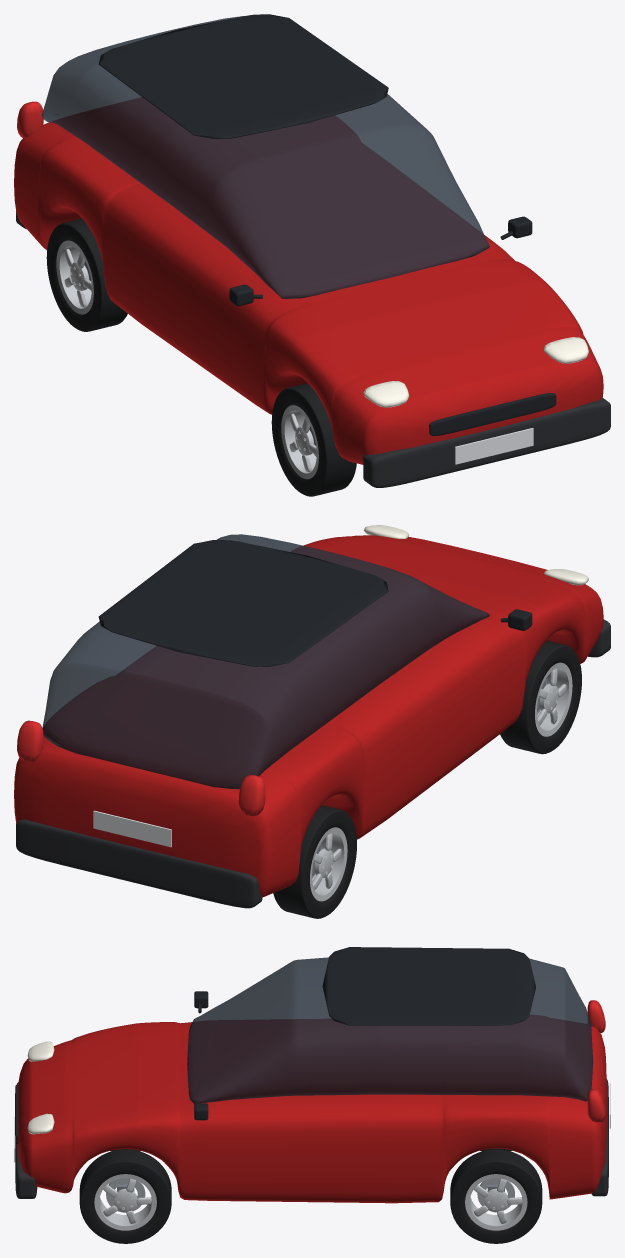
The model's file is chevy_bolt_ev.glb.
3 views of the same model, one above another, from view 1: azimuth 30°, elevation 25°; view 2: azimuth 150°, elevation 25°; view 3: azimuth 270°, elevation 25° (orthographic). The views are drawn at different scales.
Parts seen in each view (by area): view 1: chevy_bolt_ev, front_right_wheel/tire, rear_right_wheel/tire, rear_right_wheel/rim, front_right_wheel/rim; view 2: chevy_bolt_ev, rear_right_wheel/tire, front_right_wheel/tire, rear_right_wheel/rim, front_right_wheel/rim; view 3: chevy_bolt_ev, front_left_wheel/tire, rear_left_wheel/tire, front_left_wheel/rim, rear_left_wheel/rim, front_left_knuckle, rear_left_wheel/center, front_left_wheel/center.
Boxes of the visible parts, left/top/right/bottom form: chevy_bolt_ev: left=14, top=14, right=610, bottom=487; front_right_wheel/tire: left=271, top=383, right=356, bottom=496; rear_right_wheel/tire: left=46, top=218, right=127, bottom=331; rear_right_wheel/rim: left=56, top=240, right=93, bottom=314; front_right_wheel/rim: left=281, top=405, right=318, bottom=479; chevy_bolt_ev: left=14, top=525, right=610, bottom=908; rear_right_wheel/tire: left=273, top=805, right=356, bottom=918; front_right_wheel/tire: left=500, top=640, right=581, bottom=754; rear_right_wheel/rim: left=310, top=827, right=347, bottom=901; front_right_wheel/rim: left=535, top=662, right=572, bottom=736; chevy_bolt_ev: left=14, top=947, right=610, bottom=1210; front_left_wheel/tire: left=79, top=1149, right=171, bottom=1243; rear_left_wheel/tire: left=450, top=1149, right=542, bottom=1243; front_left_wheel/rim: left=94, top=1174, right=156, bottom=1230; rear_left_wheel/rim: left=465, top=1174, right=527, bottom=1230; front_left_knuckle: left=106, top=1178, right=145, bottom=1212; rear_left_wheel/center: left=484, top=1188, right=507, bottom=1212; front_left_wheel/center: left=113, top=1188, right=137, bottom=1212.
Bounding box in the file's own units: 1.98 × 1.61 × 4.19.
